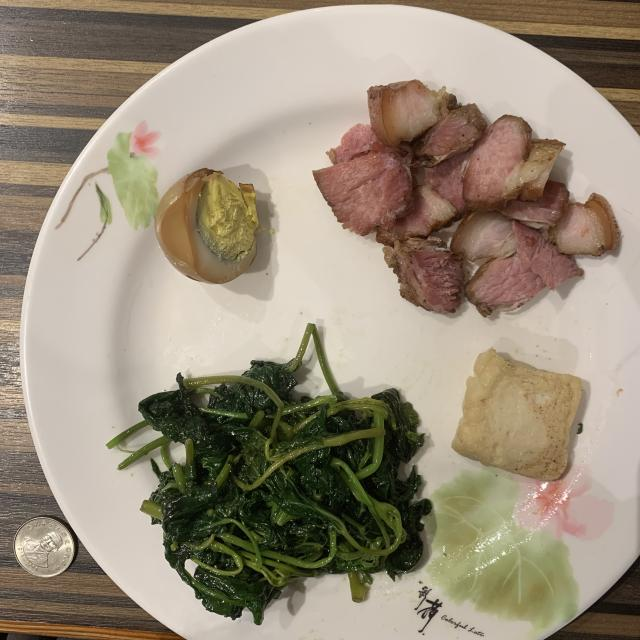coin: (14, 516, 75, 578)
creamy tofu -without sauce-: (451, 349, 582, 481)
grilled pork: (314, 80, 620, 315)
soy egg: (155, 169, 259, 284)
sweet potato leaves: (108, 324, 431, 624)
